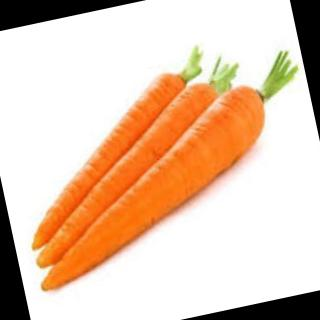Wortel: (8, 81, 291, 293), (1, 69, 215, 254)
